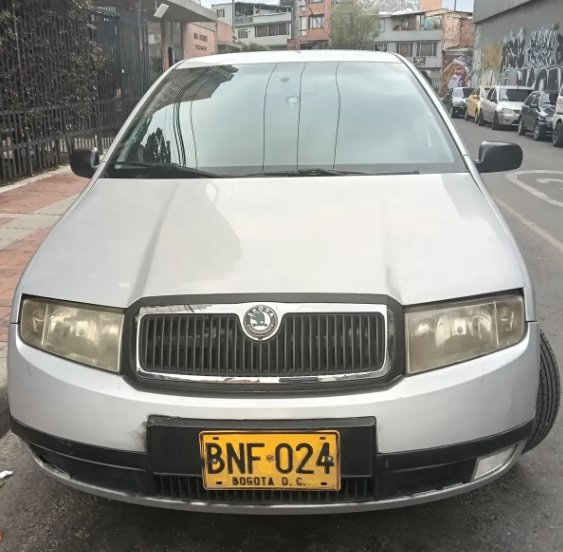placa: (199, 431, 339, 493)
